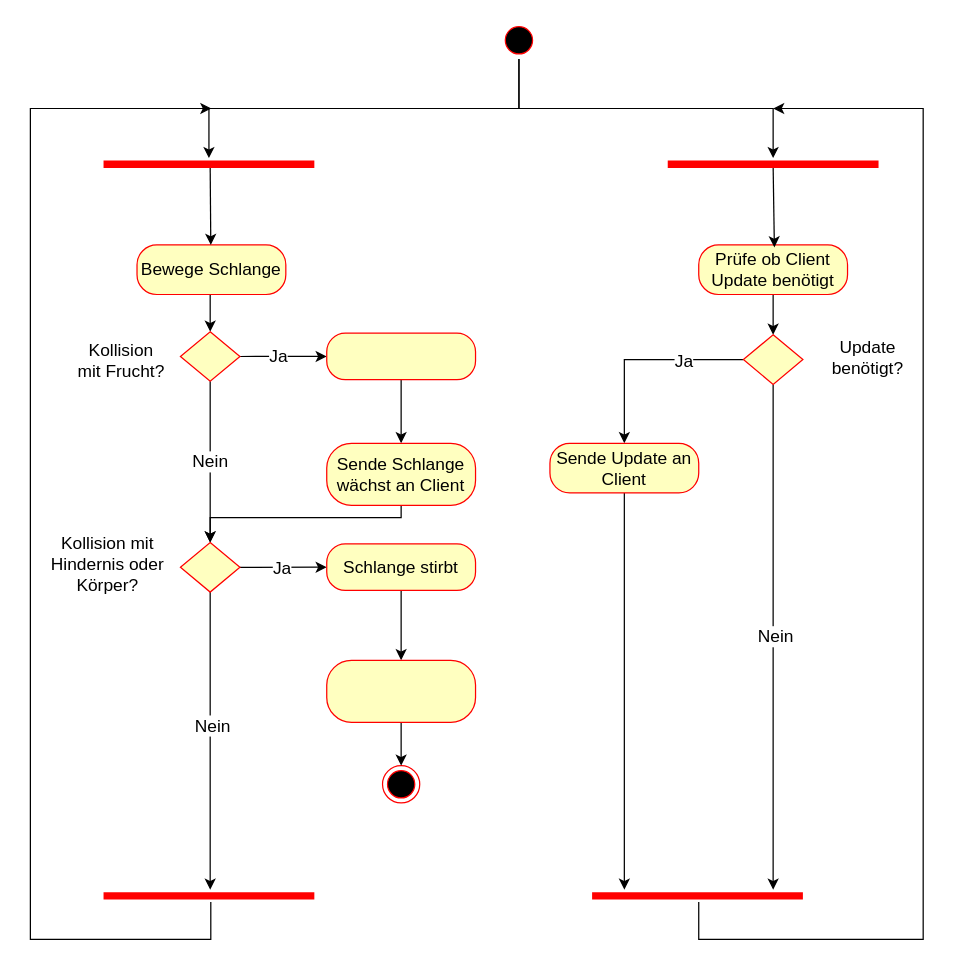
Some shapes in this 955 by 971 pixel diagram are drawn without their labels. The shapes that lost their labels are listed below. From the top down, each one's centre as x and y in pixels, then its label:
(401,356): Schlange wächst
(401,690): Sende Schlange stribt an Client
